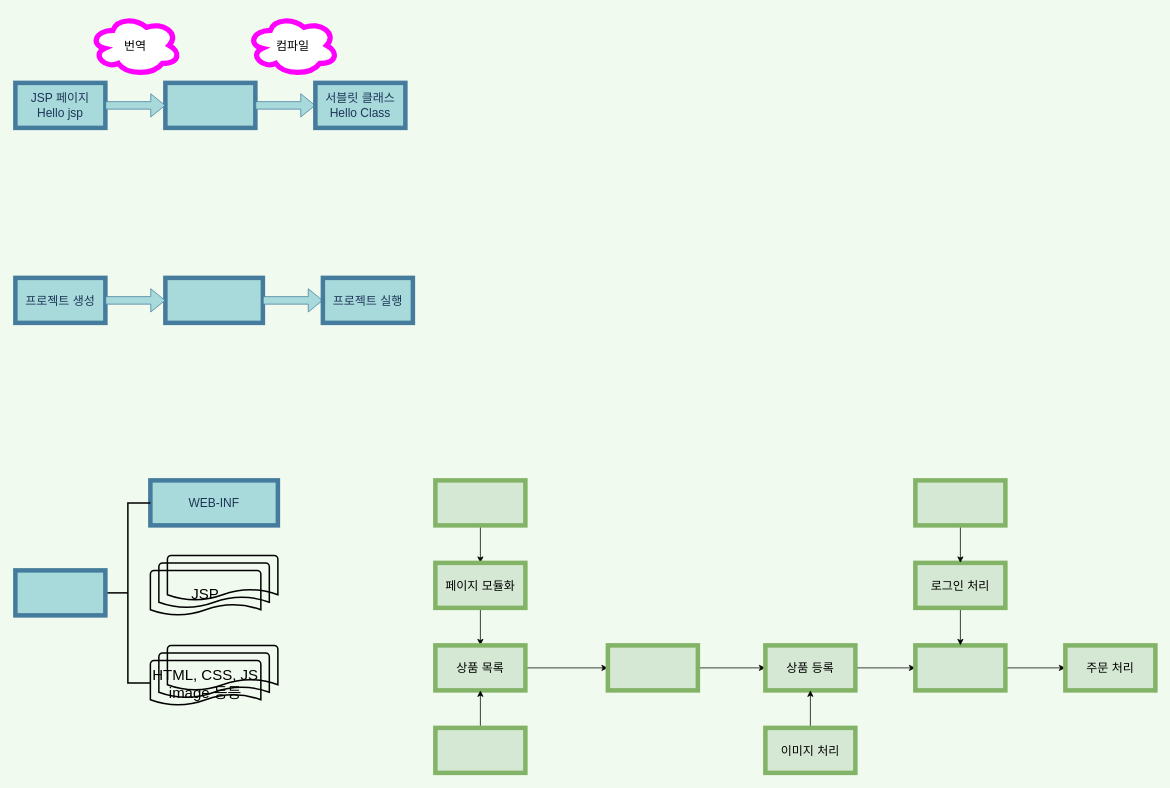
This 1170x788 diagram has some shape labels left out. Here are the shapes that lost their labels. From the top down, the centre of each, then its label:
(x=210, y=105): 서블릿 프로그램 Hello Java
(x=214, y=300): JSP 페이지 작성
(x=480, y=502): 시작 페이지
(x=960, y=502): 회원 관리
(x=60, y=592): WebContent
(x=652, y=667): 상품 상세 보기
(x=960, y=667): 구매 처리
(x=480, y=750): 데이터 베이스
